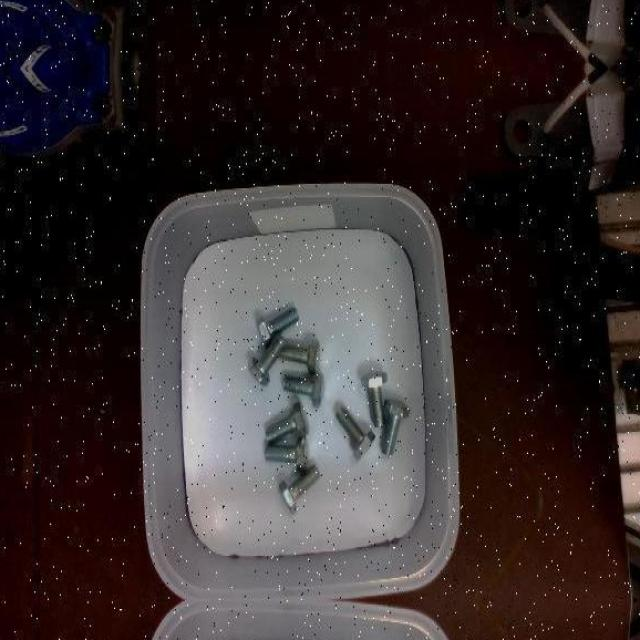screw: (334, 408, 376, 460), (279, 464, 321, 515), (249, 334, 287, 386), (266, 400, 309, 444), (380, 398, 411, 455), (264, 434, 308, 471), (362, 370, 389, 426), (284, 372, 326, 408)
